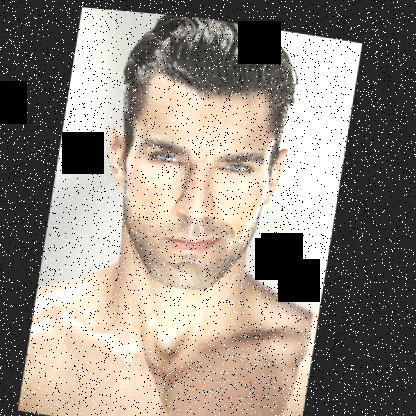Male: (89, 62, 300, 297)
